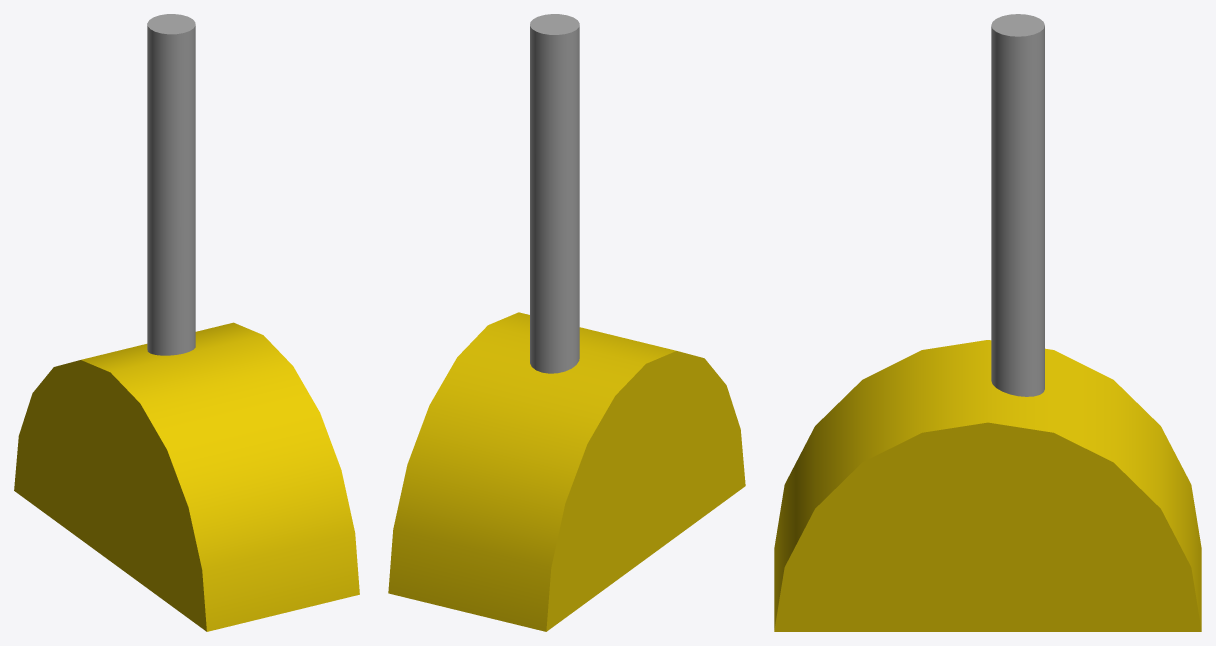
Rendered from lowerLever.fbx.
The picture shows the model from 3 angles, left to right: view 1: azimuth 30°, elevation 25°; view 2: azimuth 150°, elevation 25°; view 3: azimuth 270°, elevation 25°; orthographic projection. The views are drawn at different scales.
Visible parts, largest first — view 1: LowerLever; view 2: LowerLever; view 3: LowerLever.
Boxes of the visible parts, box(x1,y1,x2,y2) form: LowerLever: box(14, 14, 359, 631); LowerLever: box(388, 14, 745, 631); LowerLever: box(774, 14, 1201, 631).
Size of the model in its own units: 0.8062 by 2.56 by 1.76.
